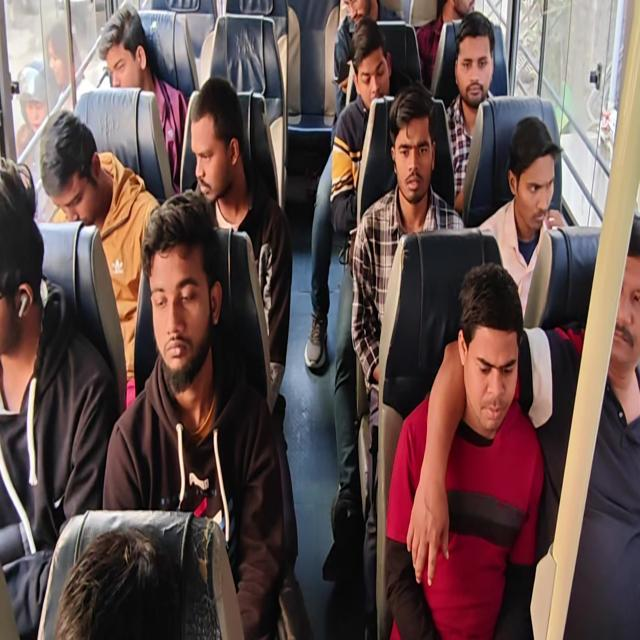person: (44, 521, 222, 640), (137, 185, 233, 403), (456, 257, 523, 434), (34, 104, 111, 232), (183, 77, 251, 198), (2, 151, 42, 336), (594, 218, 640, 376), (387, 79, 440, 214), (509, 114, 560, 232), (97, 10, 157, 93), (344, 24, 396, 107), (454, 20, 501, 110), (443, 0, 483, 25), (337, 3, 381, 24)
